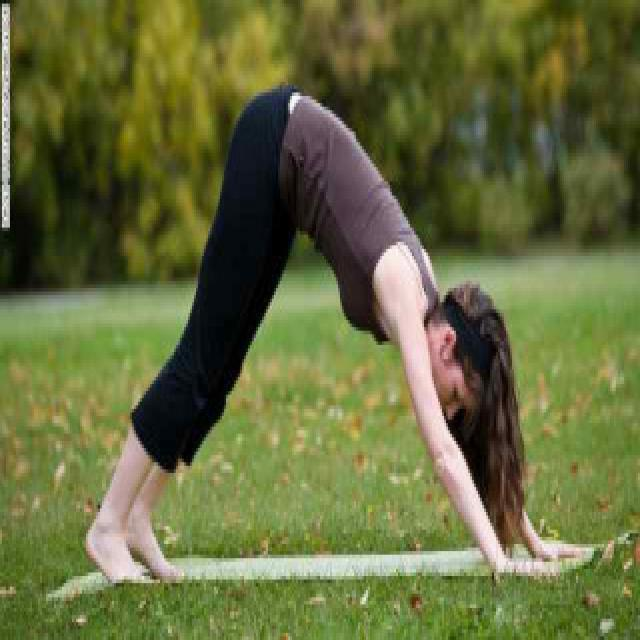yoga-pose downward: (80, 85, 567, 584)
